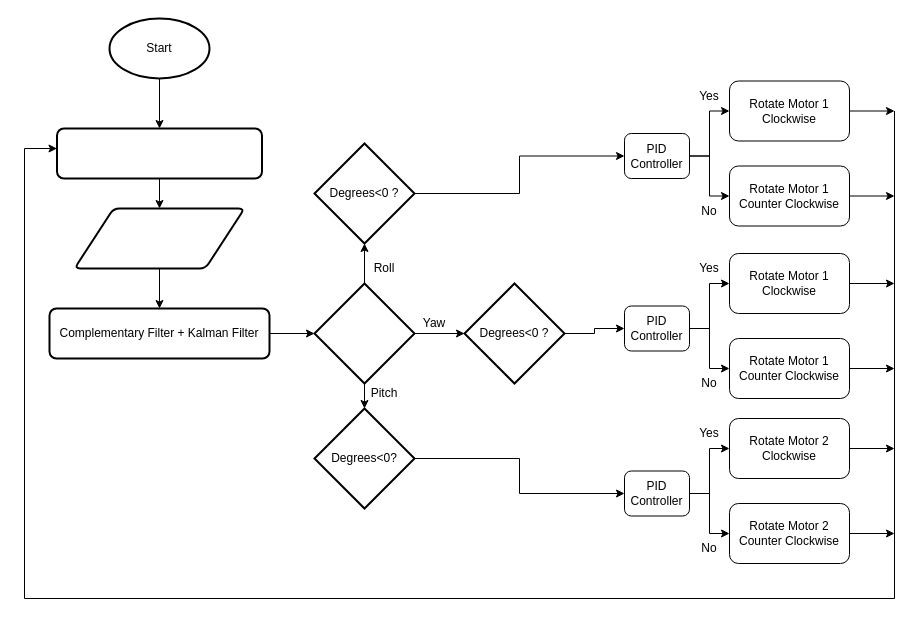
Image size: 920x617. Some labels were removed from this diagram. The shapes that lost their labels are listed below. From the top down, each one's centre as x and y in pixels, then its label:
At point (159, 153): "Initial Setup".
At point (159, 238): "Read Angles".
At point (364, 333): "Roll or Pitch or Yaw".
